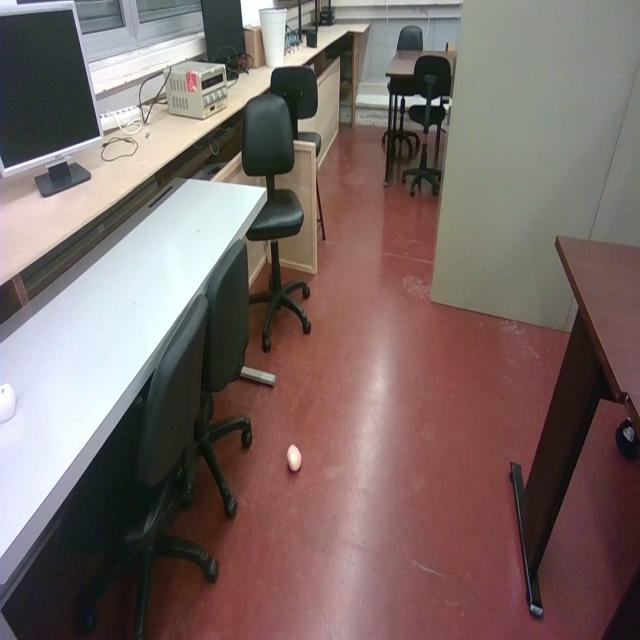peach: (288, 444, 301, 471)
